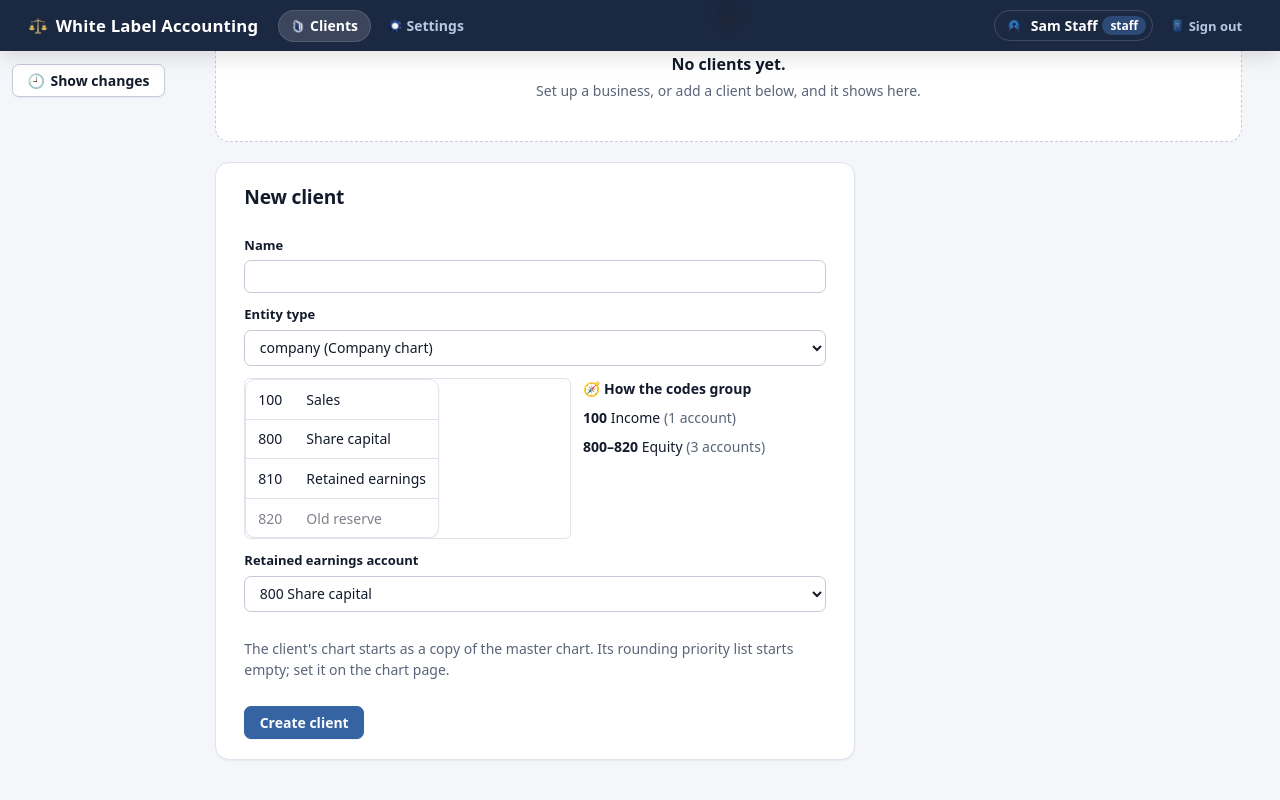
Test: clients › creates a client with an active equity account as retained earnings, then opens it
(page scrolled)
Expected: the text "No clients yet." is shown, [671,52,786,76]
Select "810 Retained earnings" in the dropdown labelled "Retained earnings account" at (535, 594), box [244,576,826,612]
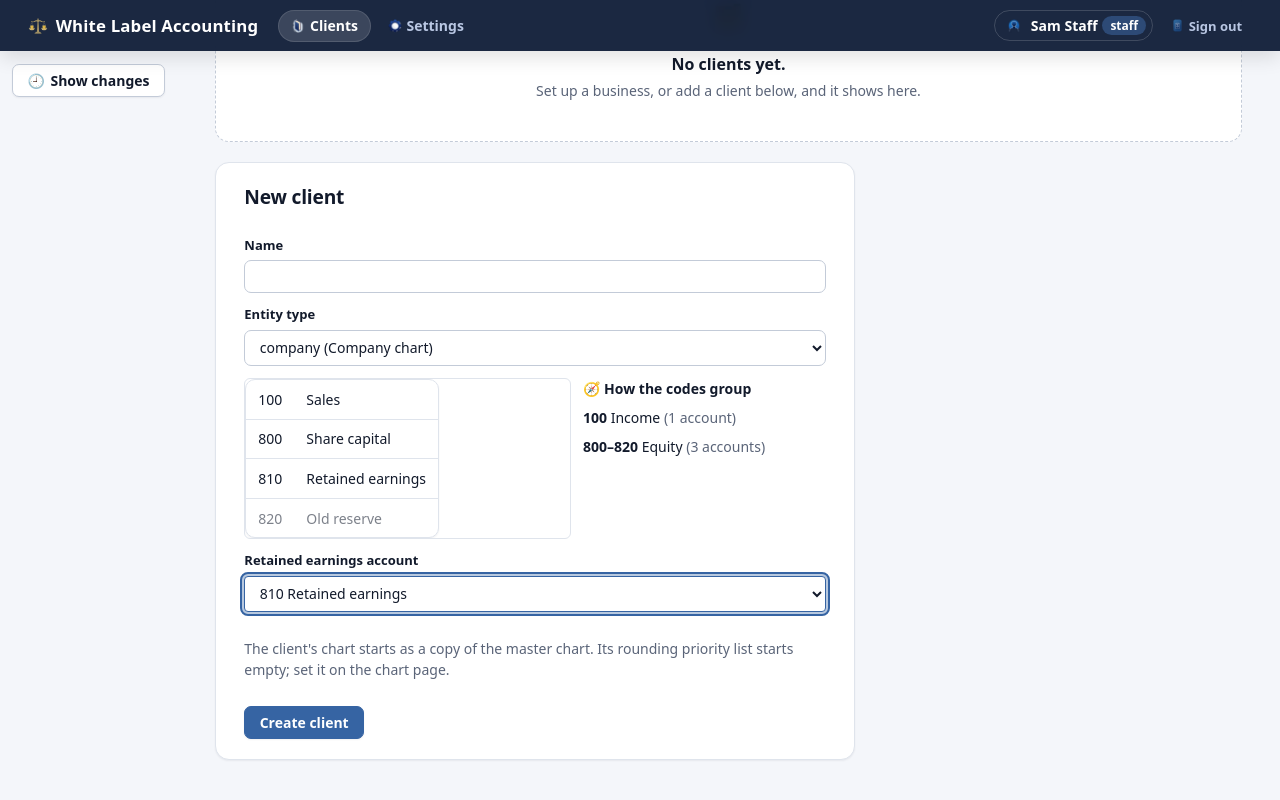
Type "  Example Widgets Ltd " into the field labelled "Name" at (535, 277), box [244,260,826,293]
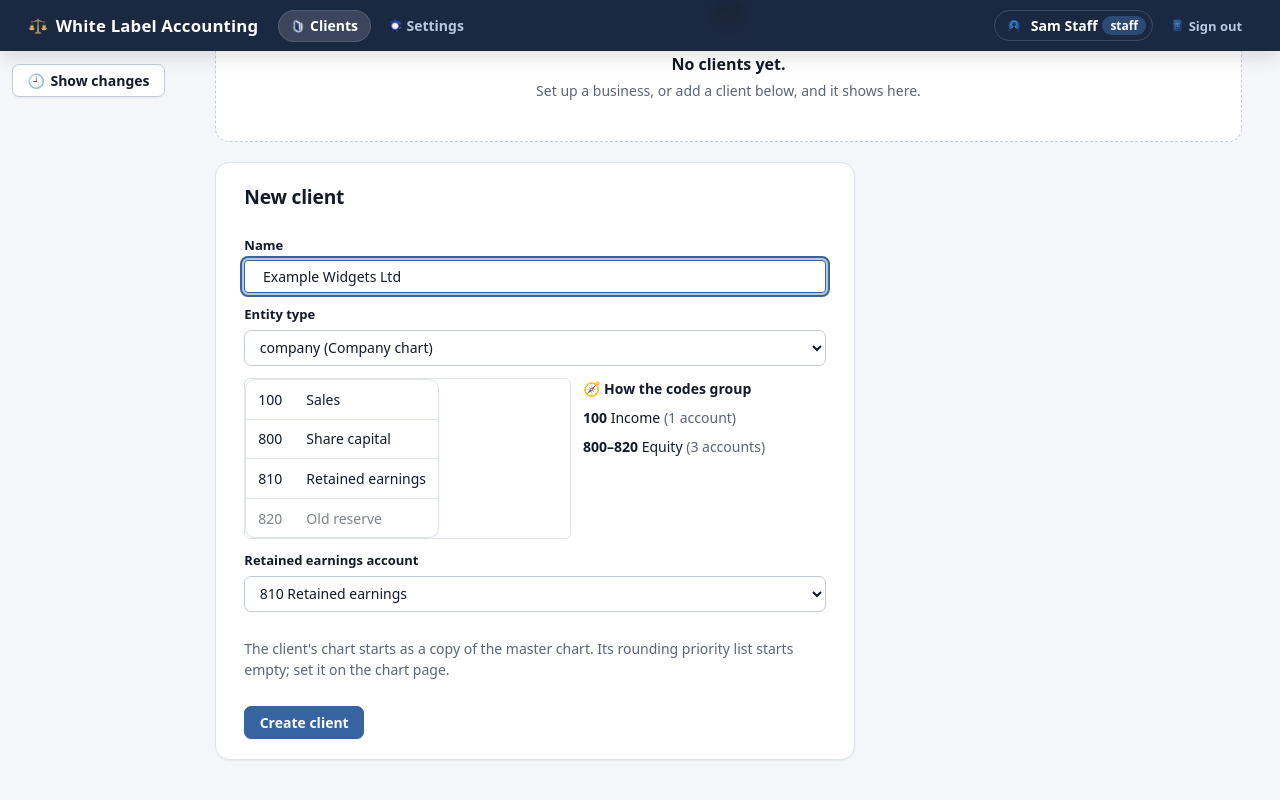
Click the button "Create client" at (304, 723), box [244,706,364,739]
(page scrolled)
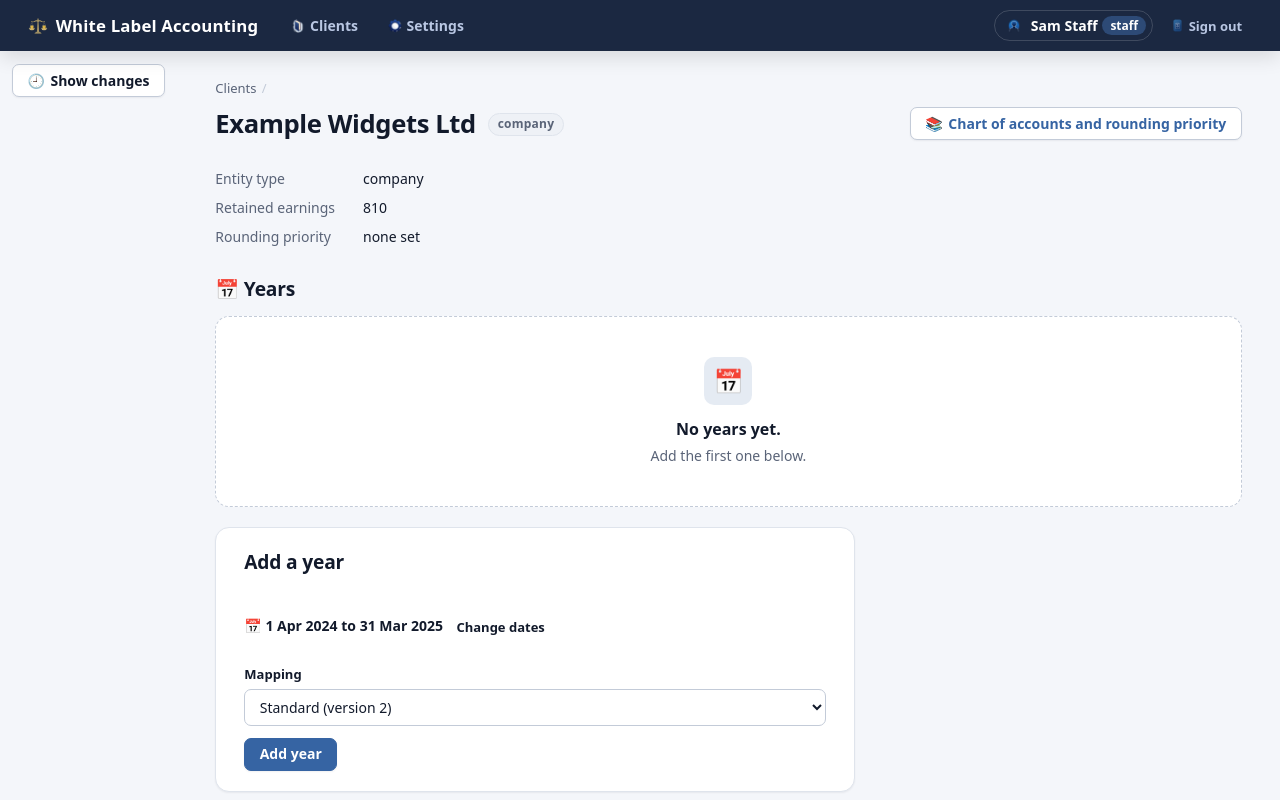
Expected: the heading "Example Widgets Ltd" is shown, [215,109,476,140]
